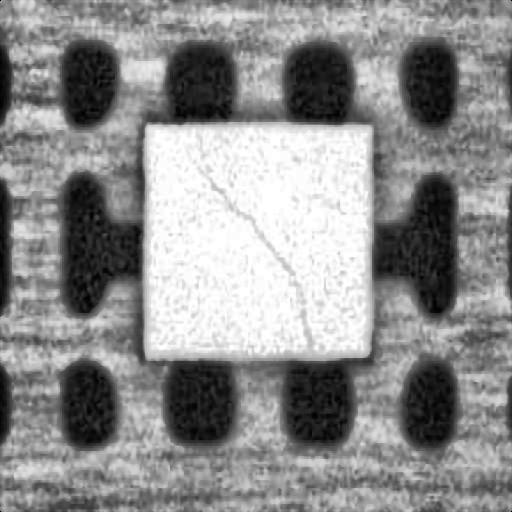DIE_CRACK: (195, 156, 310, 345)
